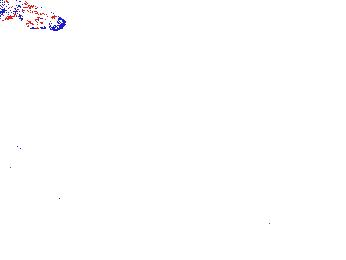X-ray fish: (204, 153, 236, 176)
redtail glassfish: (1, 1, 66, 32)
